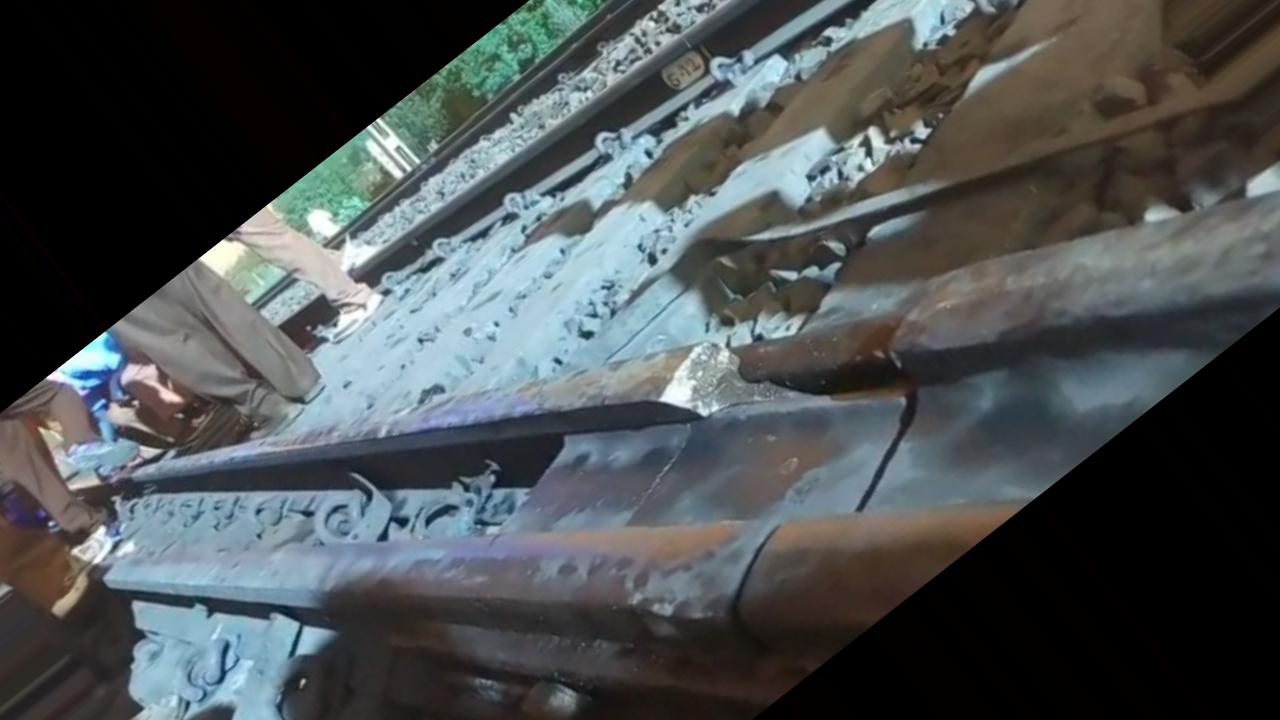tracks_fault: (599, 244, 1051, 484)
